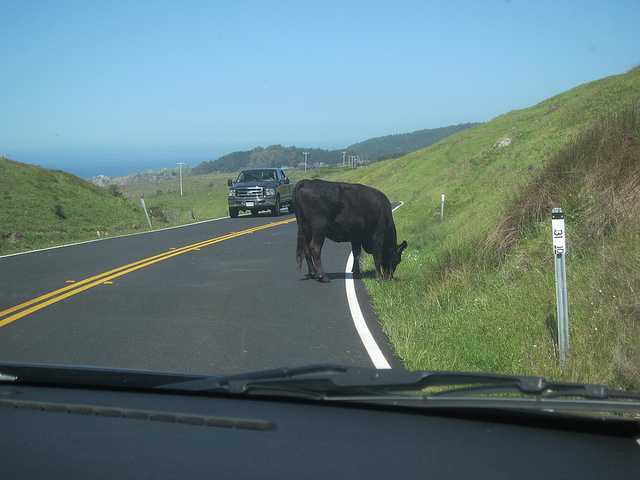Car: (227, 168, 287, 210)
